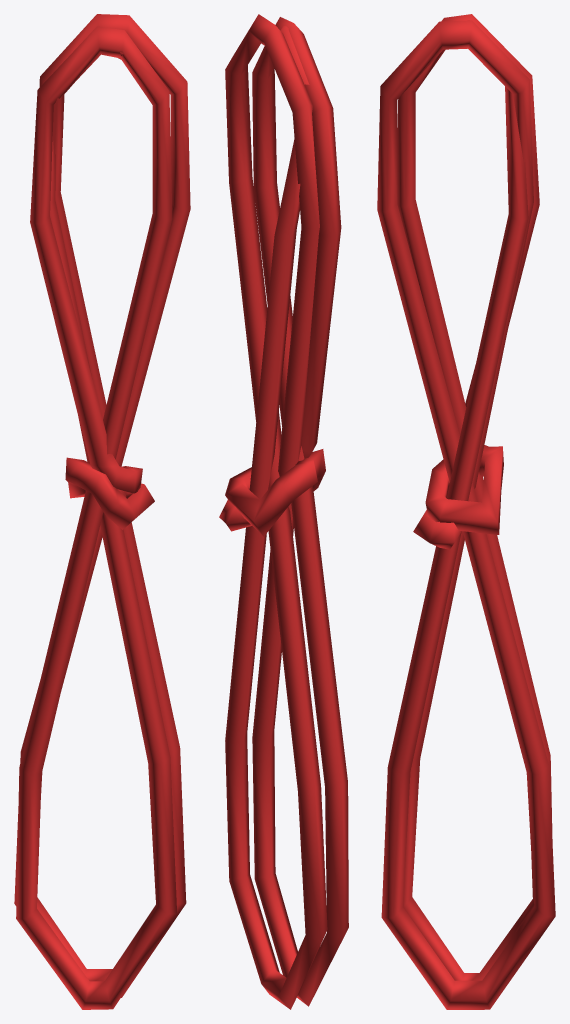
The model's file is mw_rope.FBX.
3 views of the same model, side by side, from view 1: azimuth 90°, elevation 25°; view 2: azimuth 210°, elevation 25°; view 3: azimuth 270°, elevation 25° (orthographic).
Visible parts, largest first — view 1: mw_rope; view 2: mw_rope; view 3: mw_rope.
Boxes of the visible parts, x1,y1,x2,y2 form: mw_rope: (14,14,190,1009); mw_rope: (219,14,348,1009); mw_rope: (377,14,555,1009).
Bounding box in the file's own units: 10.33 × 107 × 17.46.
